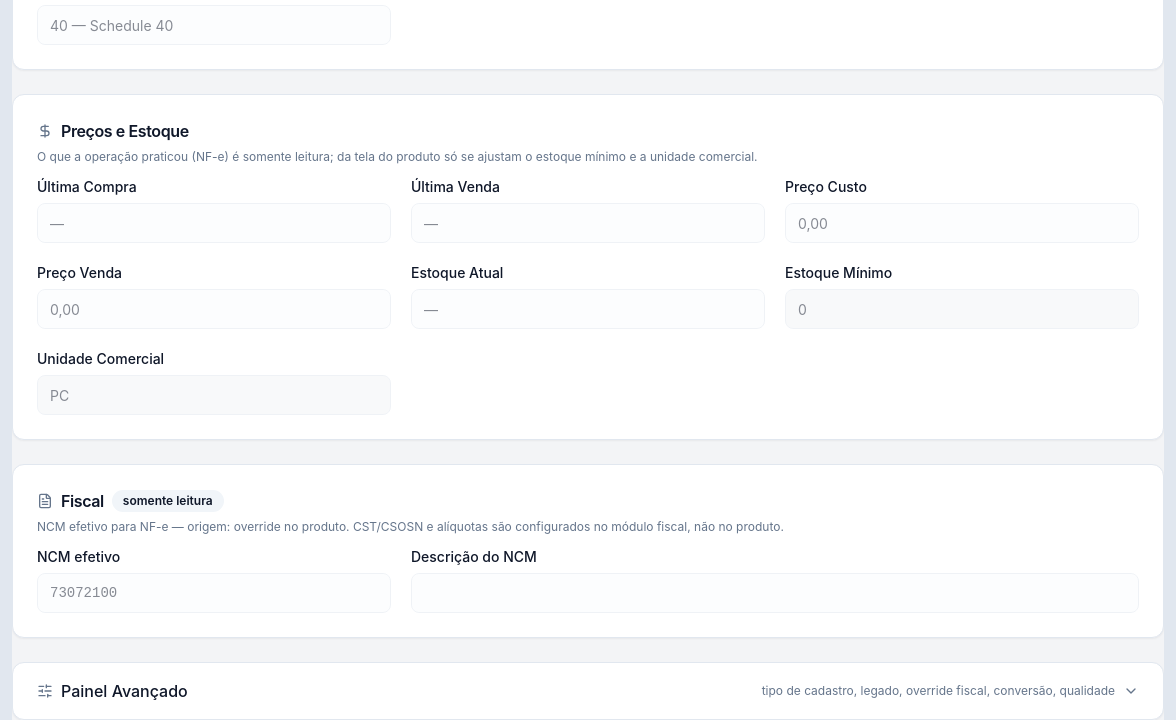
Test: ProdutoWorkspace (espelho da Edição — Sprint 3.7) › desabilita os controles de unidade, os selects e as flags de conversão
The width and height of the screenshot is (1176, 720).
(page scrolled)
Click the button "Painel Avançado".
click(124, 691)  # box [13,663,1163,719]
(page scrolled)
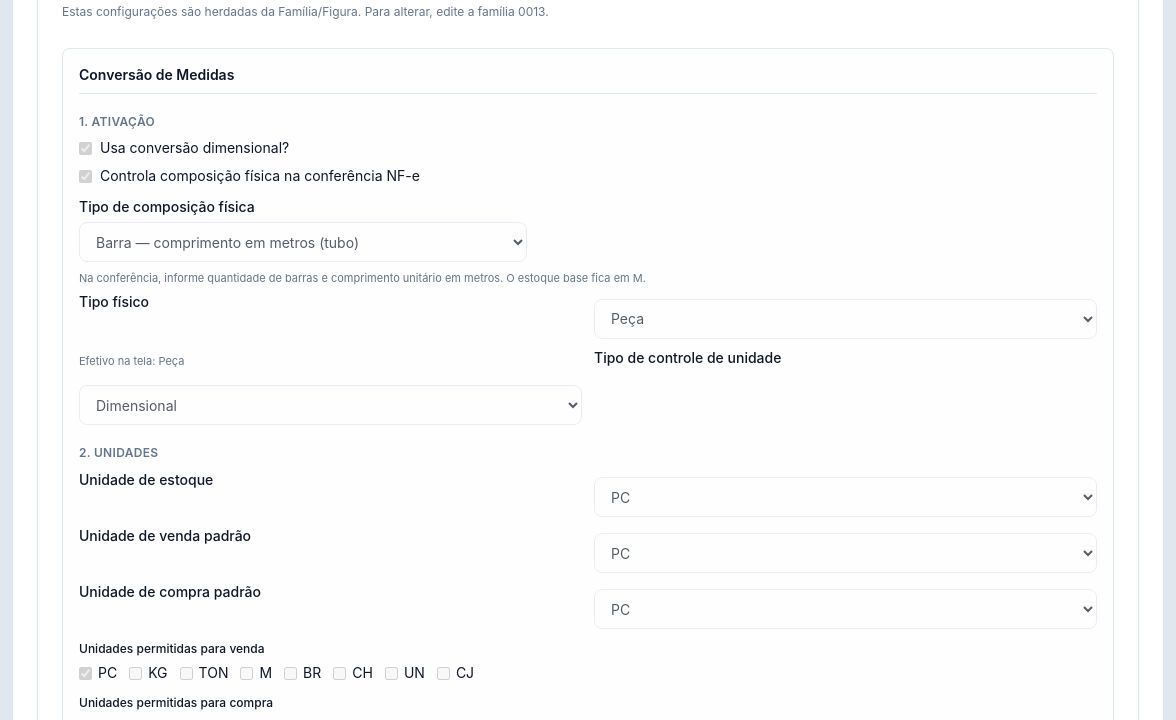
Check: the 4th dropdown showing "PC" is disabled, box [594,477,1097,517]
Check: the 5th dropdown showing "PC" is disabled, box [594,533,1097,573]
Check: the 6th dropdown showing "PC" is disabled, box [594,589,1097,629]
